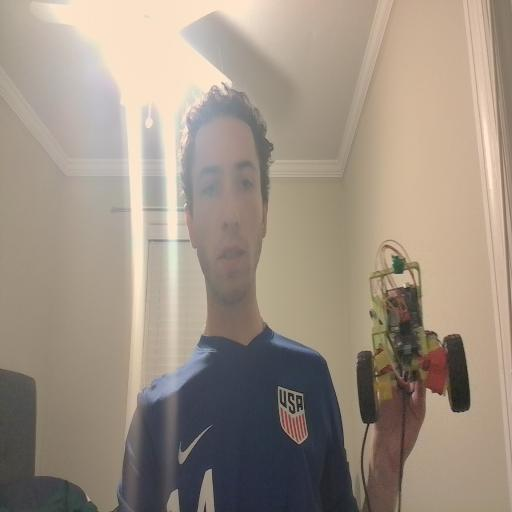green LEGO minifig: (390, 252, 406, 275)
